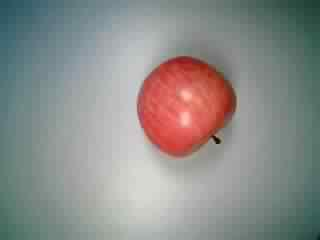apple: (132, 56, 237, 158)
